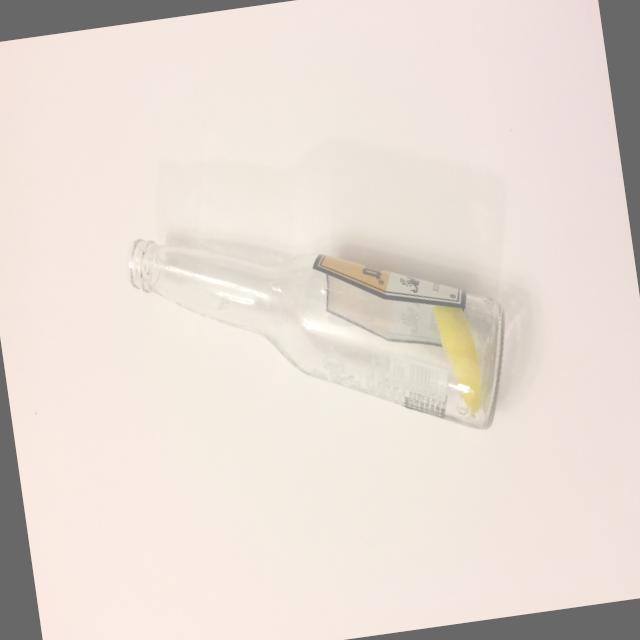Glass: (112, 173, 530, 484)
